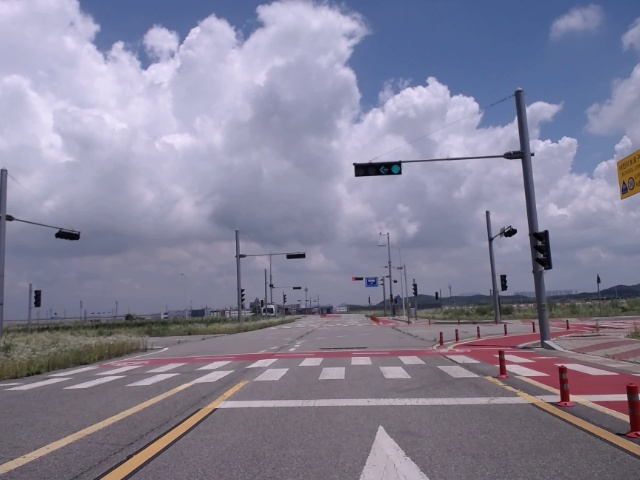all_green_4: (354, 163, 405, 176)
